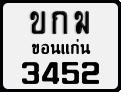letters: (21, 62, 40, 85), (41, 61, 60, 84), (61, 61, 79, 85), (82, 61, 100, 85), (29, 10, 46, 35), (51, 10, 68, 35), (75, 10, 89, 35)
province: (31, 38, 91, 56)
